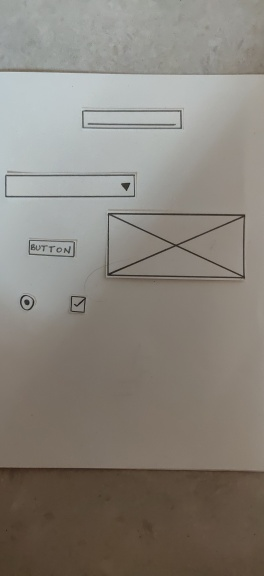button: (27, 237, 79, 259)
checkbox: (70, 294, 88, 313)
dropdown: (4, 171, 138, 197)
img: (105, 211, 246, 283)
radio: (17, 293, 36, 311)
text: (81, 107, 184, 133)
